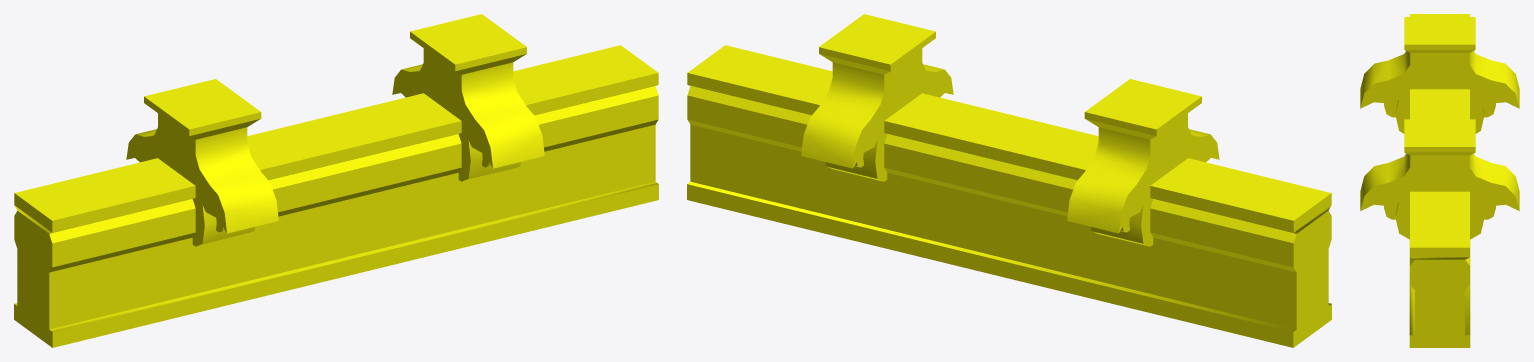
The model's file is 2st_wall_001.glb.
The picture shows the model from 3 angles, left to right: view 1: azimuth 30°, elevation 25°; view 2: azimuth 150°, elevation 25°; view 3: azimuth 270°, elevation 25°; orthographic projection. The views are drawn at different scales.
Visible parts, largest first — view 1: Object04; view 2: Object04; view 3: Object04.
Part boxes in pixels (x1,y1,x2,y2): Object04: [14, 14, 658, 347]; Object04: [687, 14, 1331, 347]; Object04: [1360, 14, 1519, 347].
Size of the model in its own units: 12.58 by 3.74 by 3.62.
Materials: 1 (1 with a texture image).
